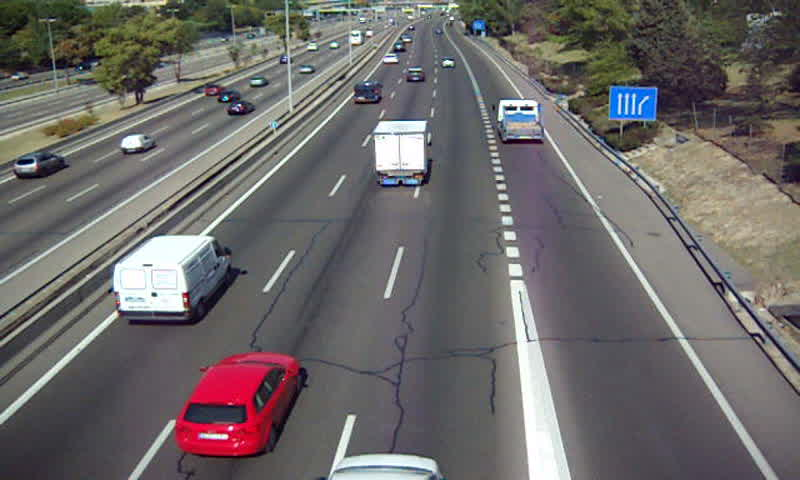car: (173, 352, 300, 459), (405, 66, 426, 83), (382, 52, 398, 66), (441, 57, 457, 69)
small-truck: (373, 120, 430, 186), (497, 99, 544, 139)
van: (115, 236, 231, 324), (352, 79, 383, 104)
